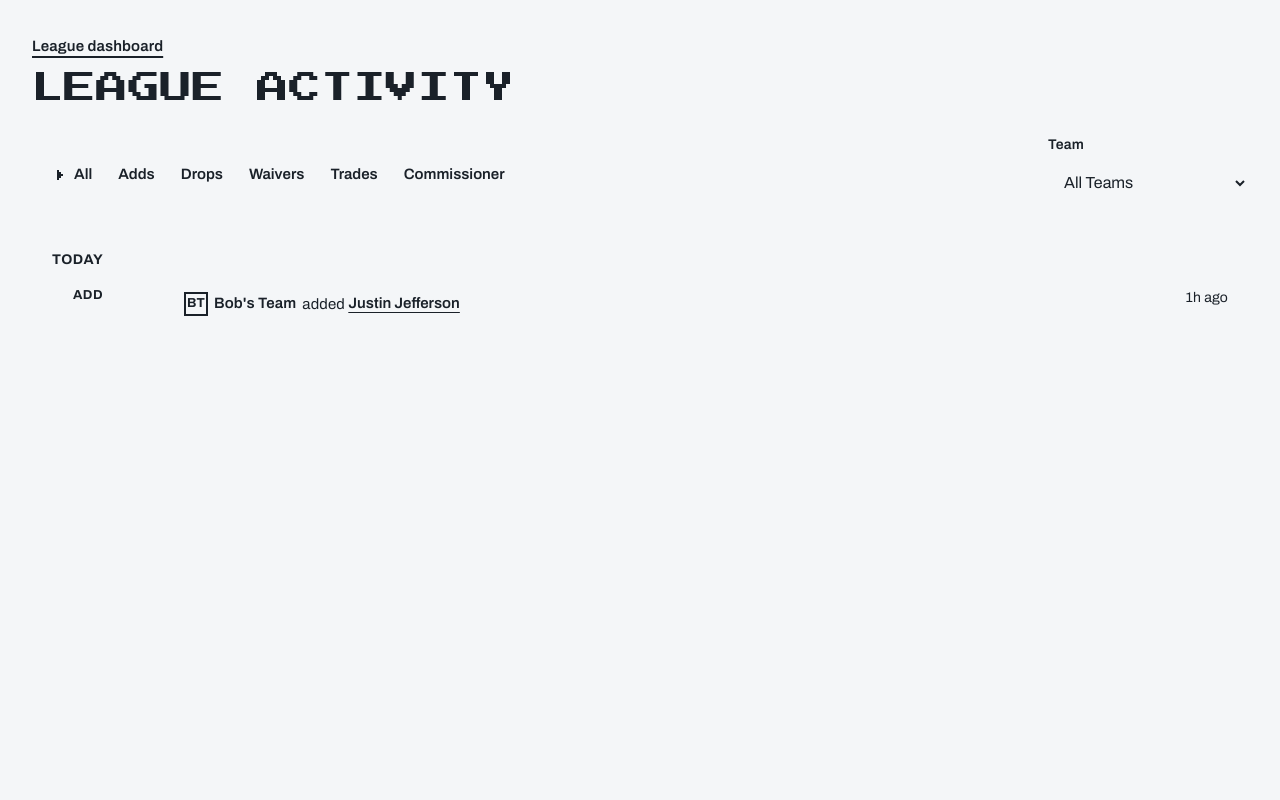
the Decision card renders Open lineup for a viewer's own player (availability my_team)
This screenshot has width=1280, height=800.
Check: the list item with test id "txn-1" is shown, box [52, 274, 1228, 334]
Click the button "Justin Jefferson": click(404, 304) [348, 282, 460, 326]
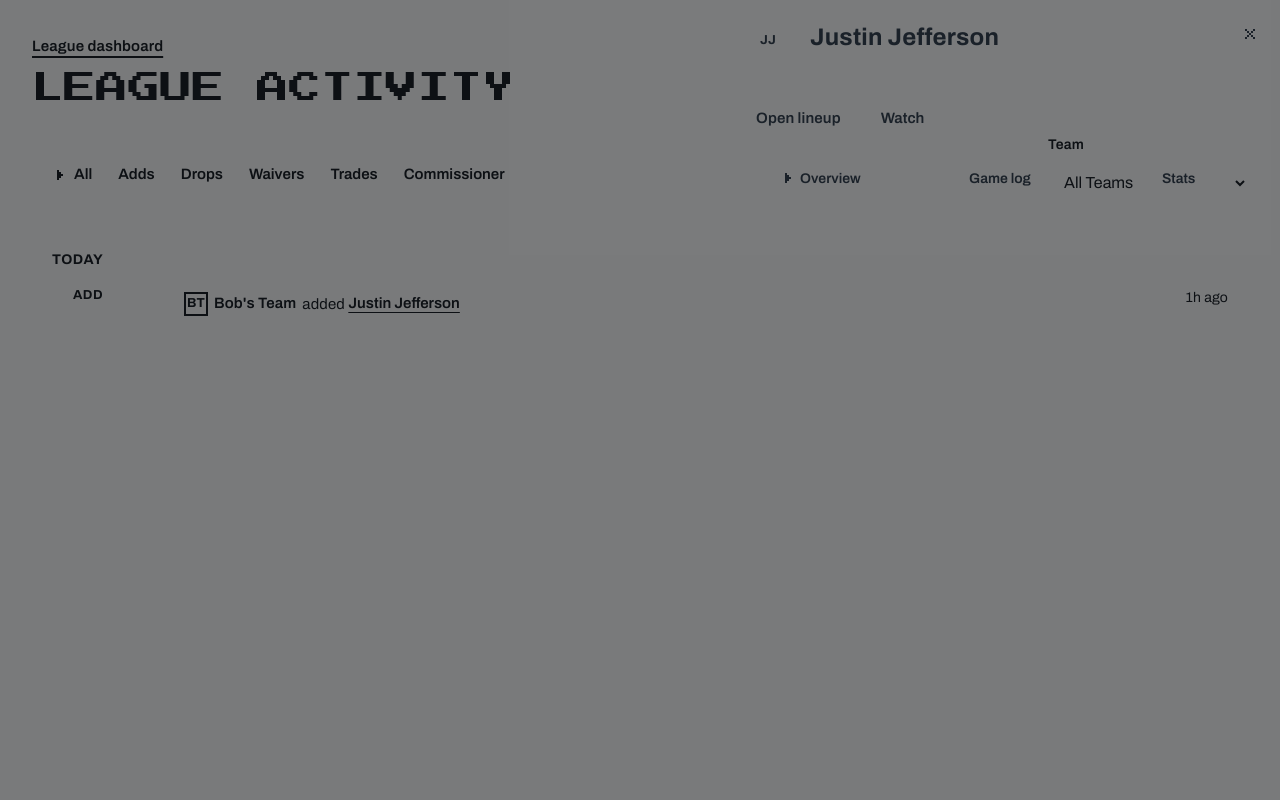
Check: the link with test id "decision-card-open-lineup" is shown, box [756, 110, 841, 126]
